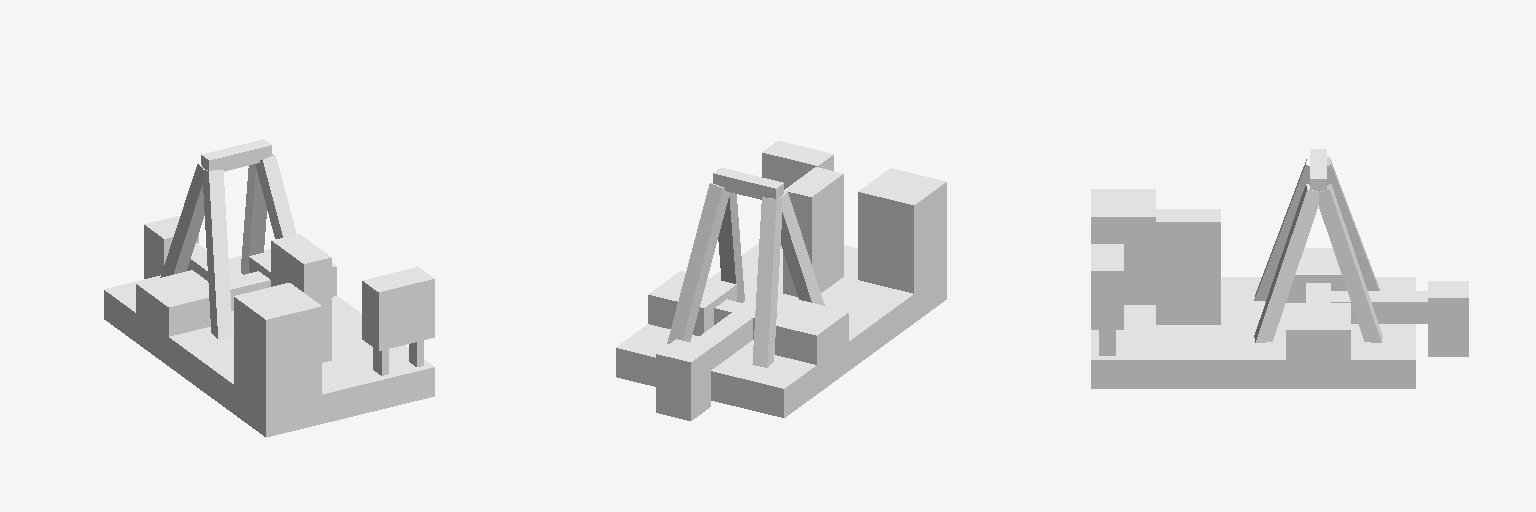
File: pumpjack_mirrored.obj
3 views of the same model, side by side, from view 1: azimuth 30°, elevation 25°; view 2: azimuth 150°, elevation 25°; view 3: azimuth 270°, elevation 25° (orthographic).
Visible parts, largest first — view 1: Base.001_Base; view 2: Base.001_Base; view 3: Base.001_Base.
Part boxes in pixels (bbox=[...]): Base.001_Base: bbox=[104, 139, 434, 437]; Base.001_Base: bbox=[616, 141, 946, 420]; Base.001_Base: bbox=[1091, 149, 1468, 388].
Size of the model in its own units: 3 by 3.12 by 5.81.